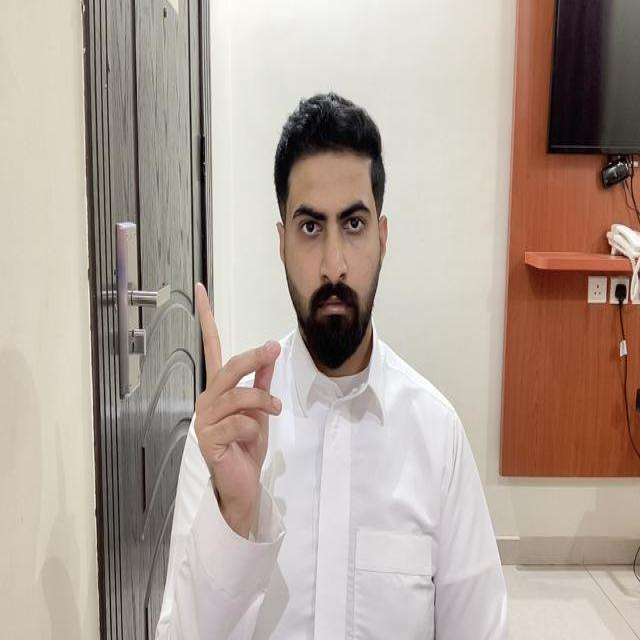emergency: (191, 280, 282, 529)
